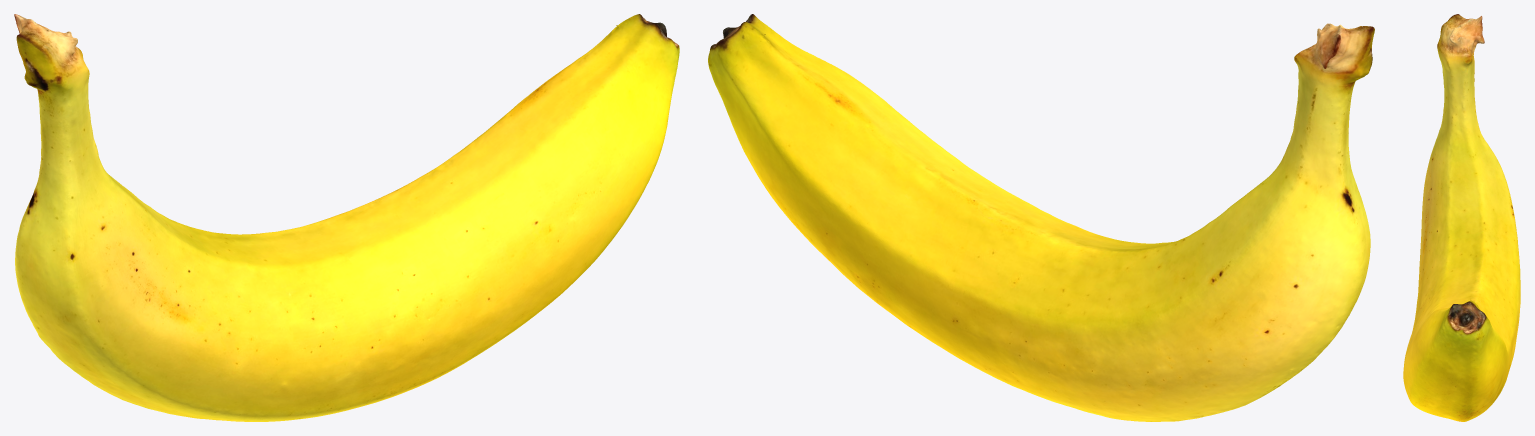
Rendered from banana-v1-v1.glb.
The picture shows the model from 3 angles, left to right: view 1: azimuth 30°, elevation 25°; view 2: azimuth 150°, elevation 25°; view 3: azimuth 270°, elevation 25°; orthographic projection. The views are drawn at different scales.
Visible parts, largest first — view 1: Banana; view 2: Banana; view 3: Banana.
Boxes of the visible parts, x1,y1,x2,y2 form: Banana: [14, 14, 679, 421]; Banana: [708, 14, 1374, 421]; Banana: [1403, 14, 1520, 421].
Bounding box in the file's own units: 6.78 × 4.44 × 1.62.
Materials: 1 (1 with a texture image).
